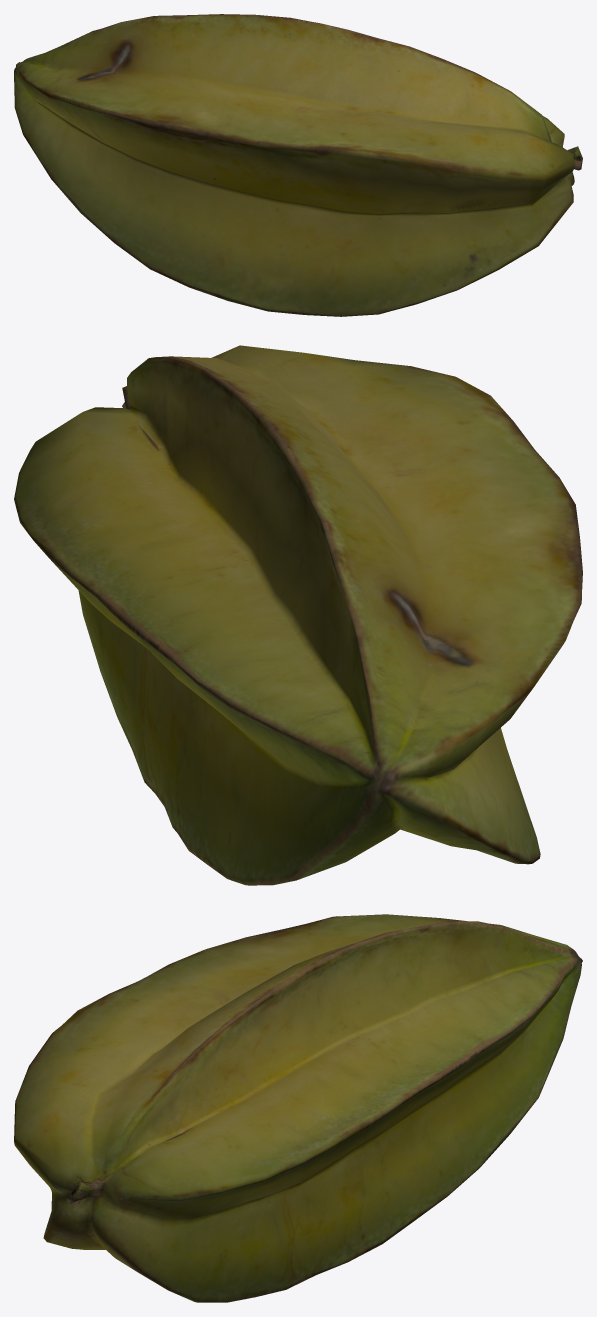
Rendered from star_fruit_game_ready__2k_pbr.glb.
3 renders of one model, top to bottom at view 1: azimuth 30°, elevation 25°; view 2: azimuth 150°, elevation 25°; view 3: azimuth 270°, elevation 25°, orthographic. The views are drawn at different scales.
Visible parts, largest first — view 1: Star Fruit; view 2: Star Fruit; view 3: Star Fruit.
Part boxes in pixels (x1,y1,x2,y2): Star Fruit: (14, 14, 582, 316); Star Fruit: (14, 345, 582, 885); Star Fruit: (14, 914, 582, 1302).
Bounding box in the file's own units: 0.0875 × 0.0506 × 0.0919.
1 material, 1 textured.
